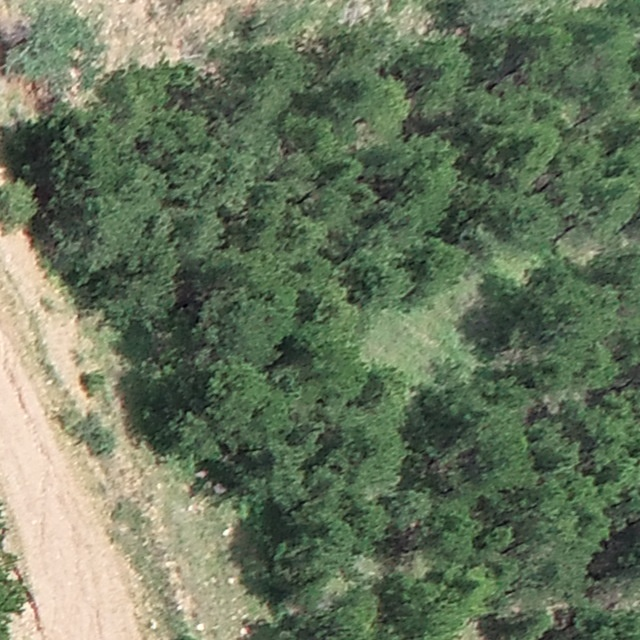unhealthy: (0, 19, 34, 47)
